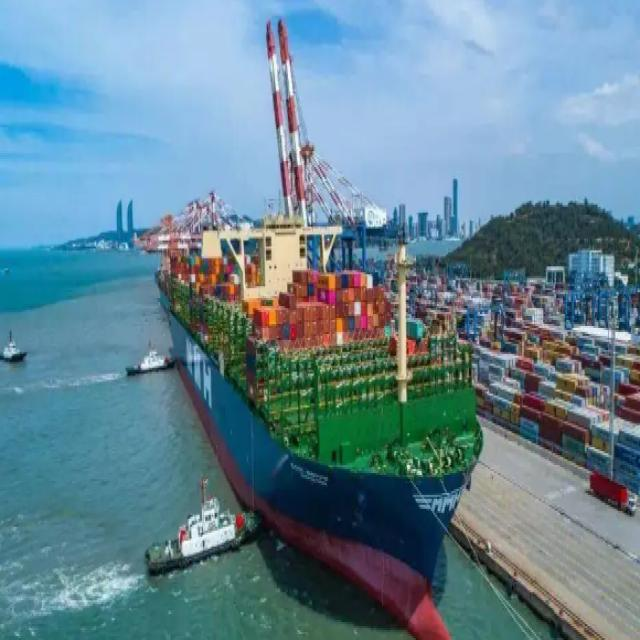cargoship: (147, 164, 479, 609)
houseboat: (145, 480, 262, 580), (129, 333, 171, 388), (0, 336, 30, 362)
